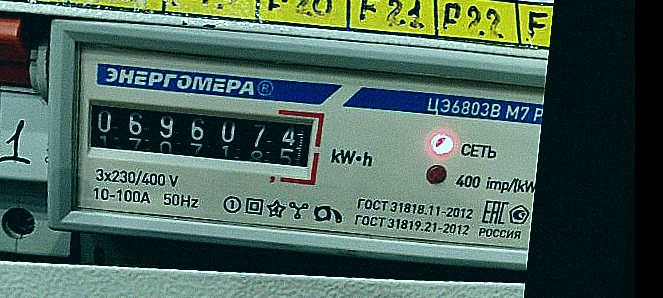0: (91, 106, 112, 133), (217, 116, 236, 144)
4: (278, 121, 297, 147)
5: (277, 145, 293, 165)
6: (124, 108, 145, 136), (186, 115, 205, 140)
7: (246, 120, 267, 148)
9: (154, 112, 175, 138)
screen: (70, 83, 328, 189)
